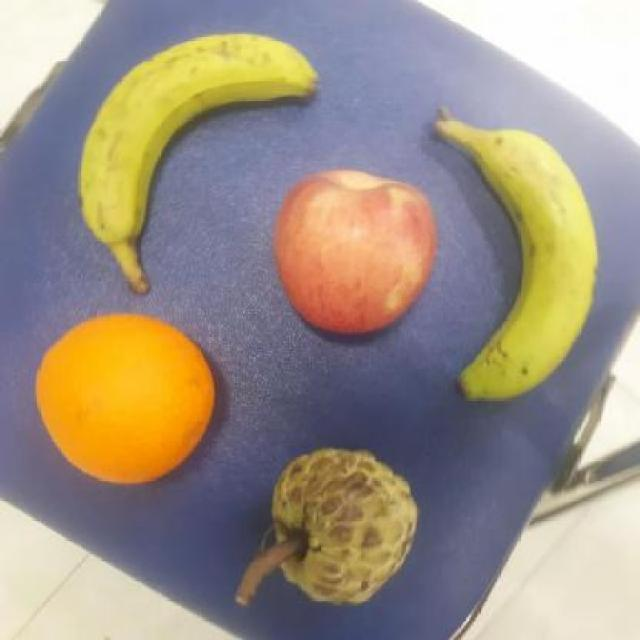apple: (269, 164, 443, 338)
banana: (74, 31, 317, 298), (436, 108, 602, 400)
oren: (34, 311, 217, 486)
sugar apple: (272, 445, 419, 610)
